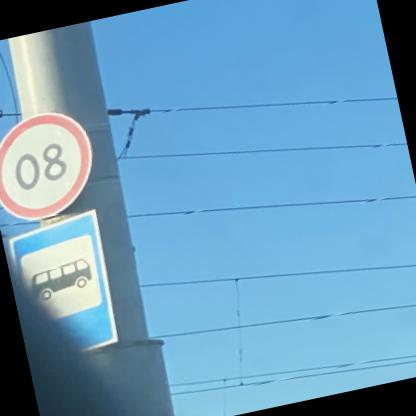speedlimit: (0, 103, 108, 227)
